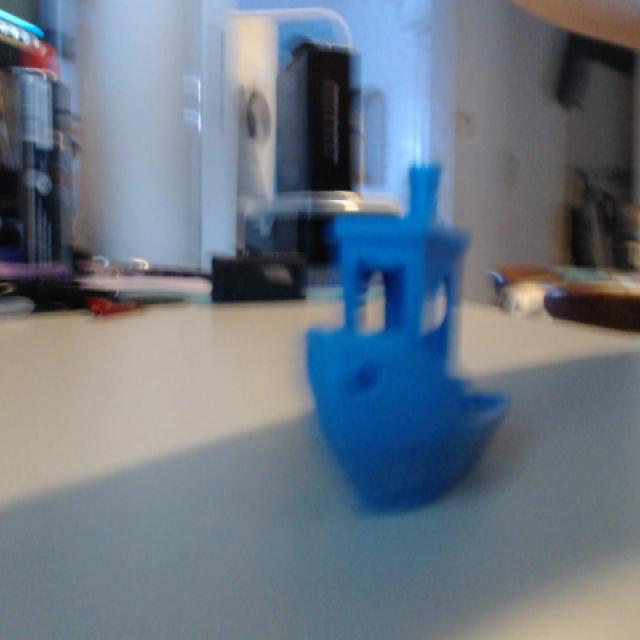benchy: (300, 156, 513, 513)
